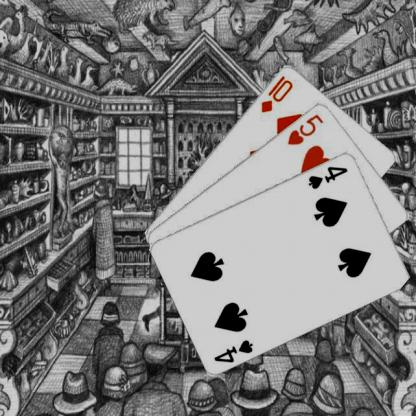10D: (258, 73, 294, 114)
4S: (211, 336, 255, 364), (306, 163, 349, 190)
5H: (284, 111, 324, 146)
